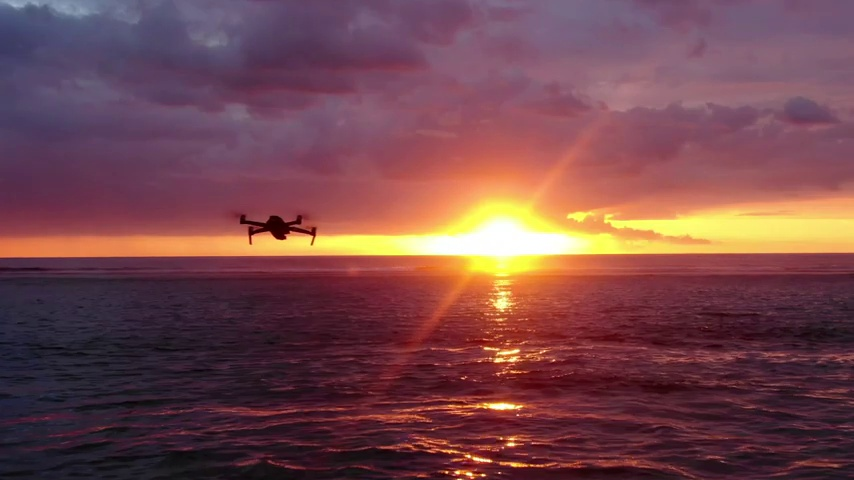drone: (237, 211, 316, 247)
